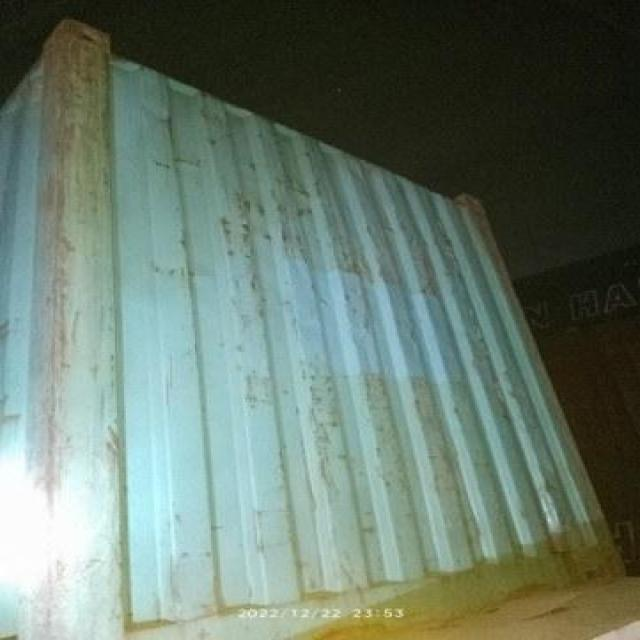rust: (42, 15, 86, 419)
